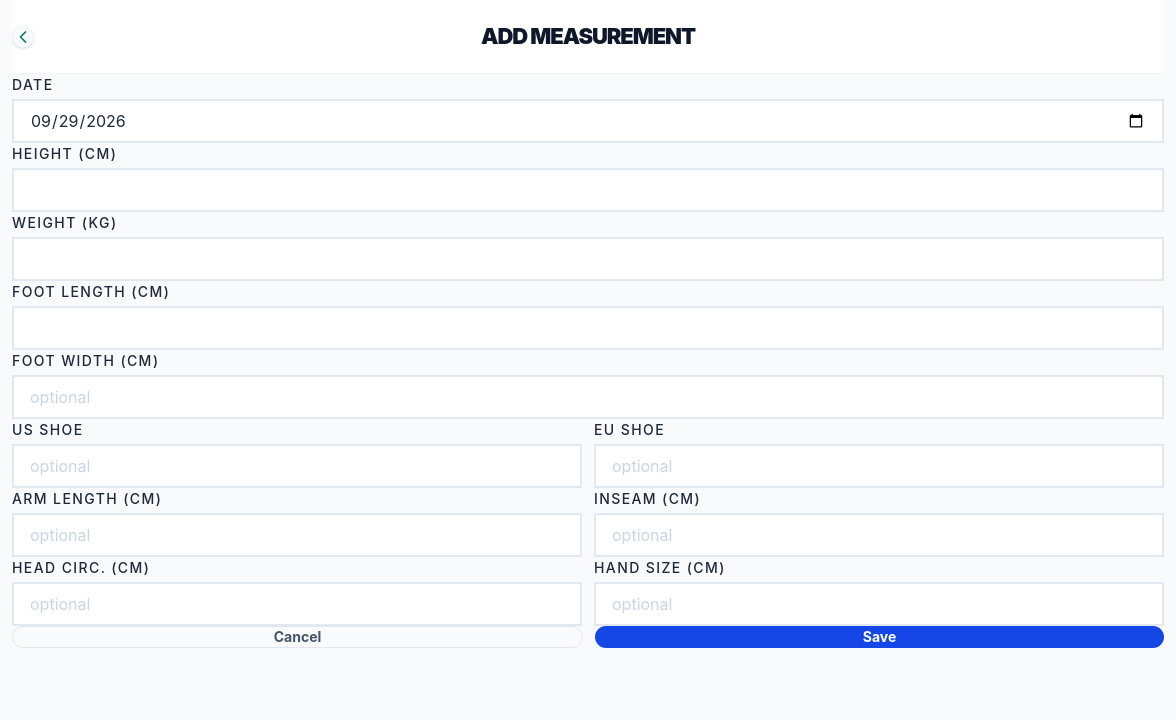
Test: EditMeasurementEntryScreen › add mode › validation › shows error when height is zero
Click the button "Save" at (880, 637), box [595,626,1164,648]
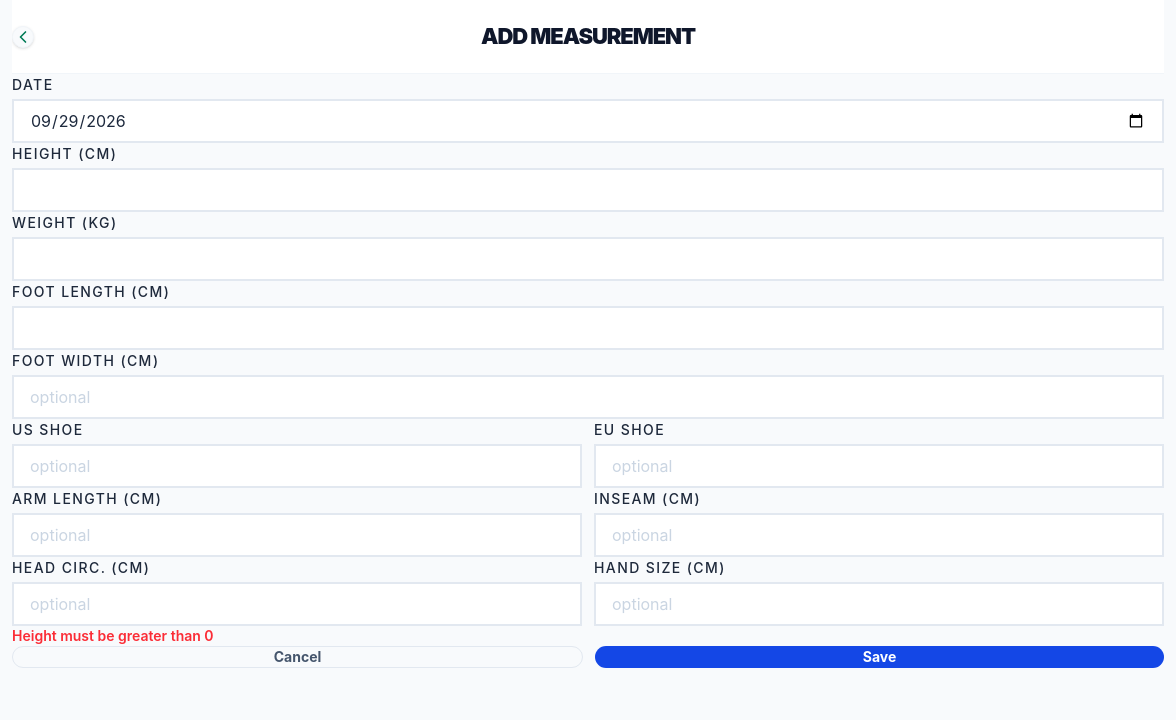
Expected: the text "Height must be greater than 0" is shown, [12,627,214,644]
